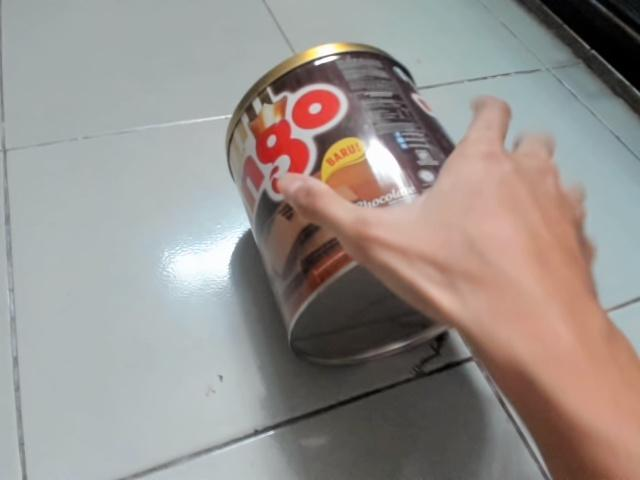anorganik: (220, 35, 480, 374)
